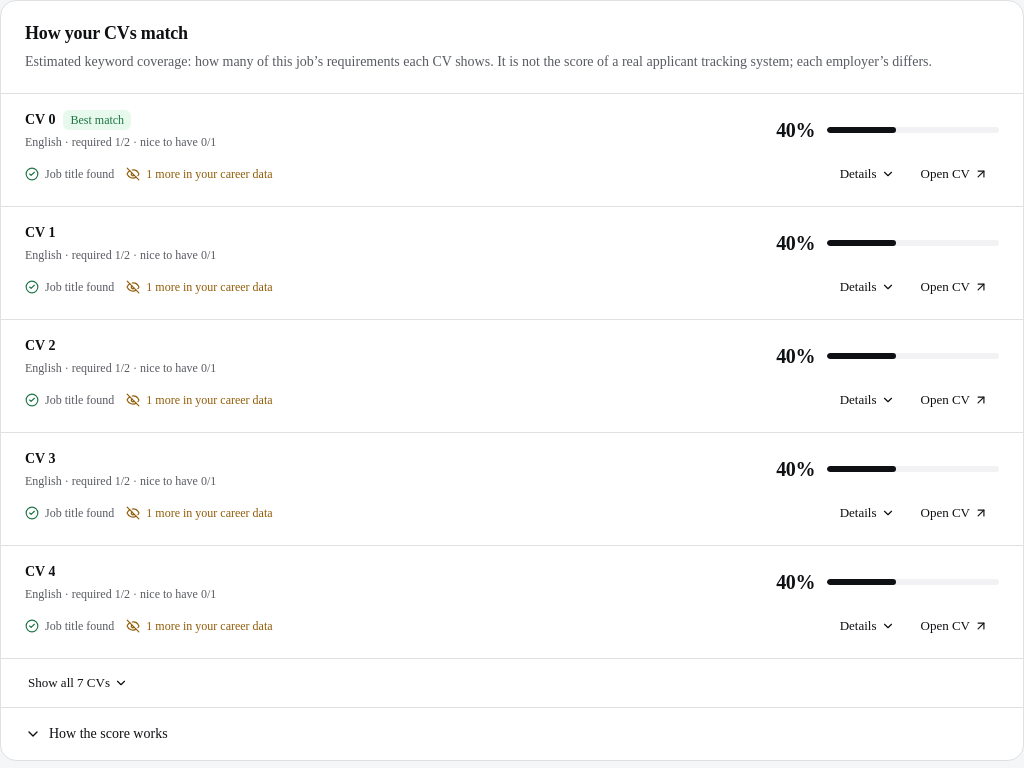
Test: CvMatchList › shows the best five CVs, and the others on request
The width and height of the screenshot is (1024, 768).
Expected: the number of buttons named "Details: " is 5, [829,158,906,190]; [829,271,906,303]; [829,384,906,416]; [829,497,906,529]; [829,610,906,642]
Click the button "Show all 7 CVs" at (78, 683), box [17,667,139,699]
(page scrolled)
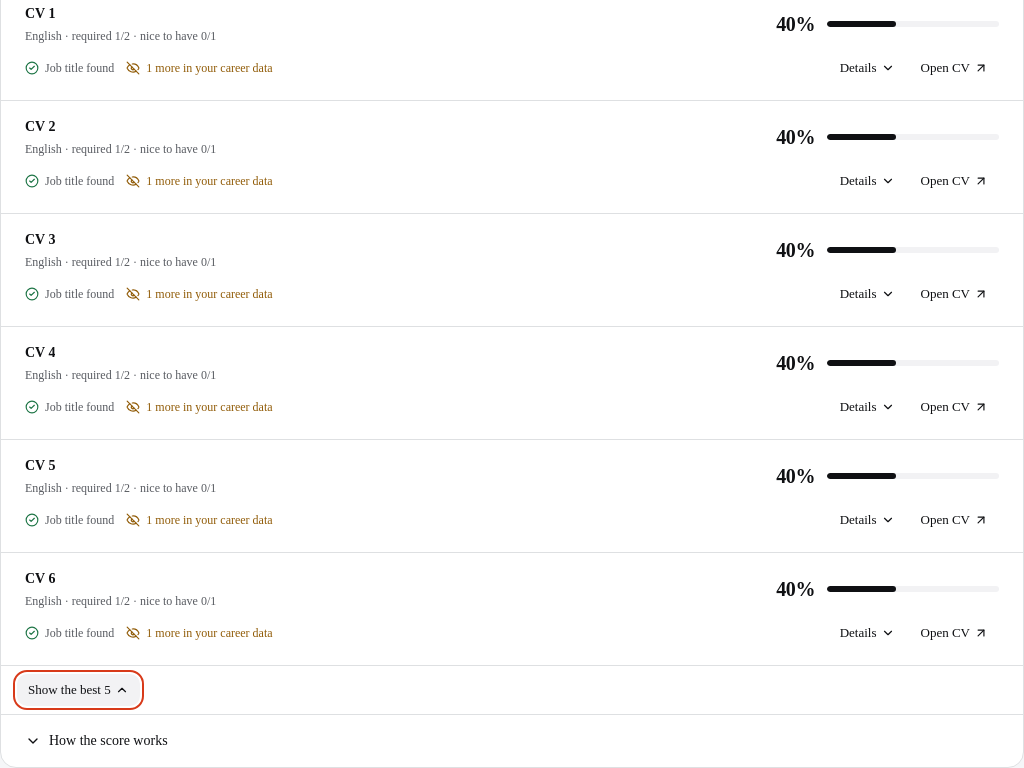
Expected: the number of buttons "Details: " is 7
Click the button "Show the best 5" at (78, 690), box [17,674,140,706]
(page scrolled)
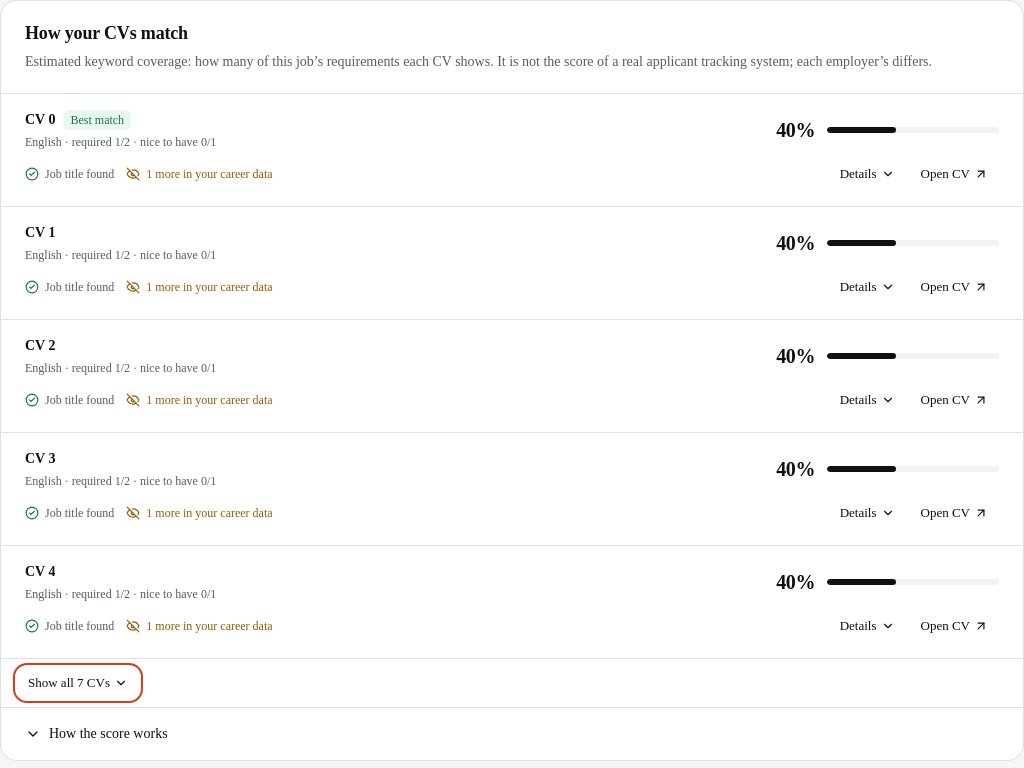
Expected: the number of buttons named "Details: " is 5, [829,158,906,190]; [829,271,906,303]; [829,384,906,416]; [829,497,906,529]; [829,610,906,642]
